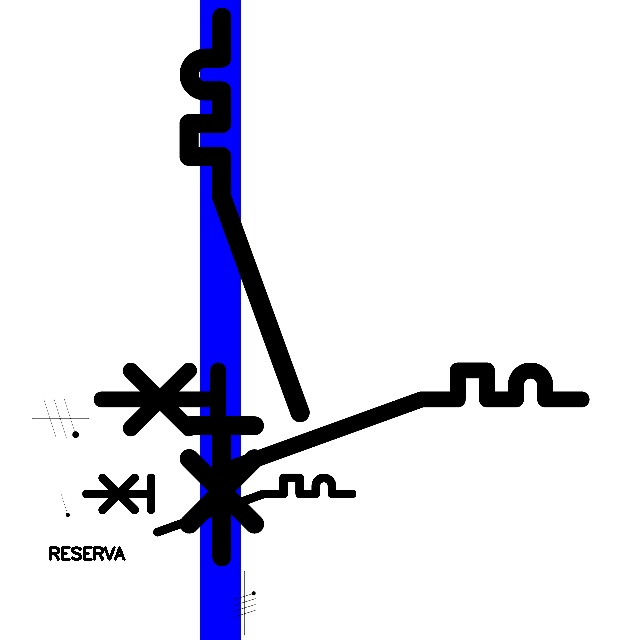interruptor_termomagnetico: (175, 3, 314, 571), (89, 358, 594, 481), (79, 471, 359, 539)
